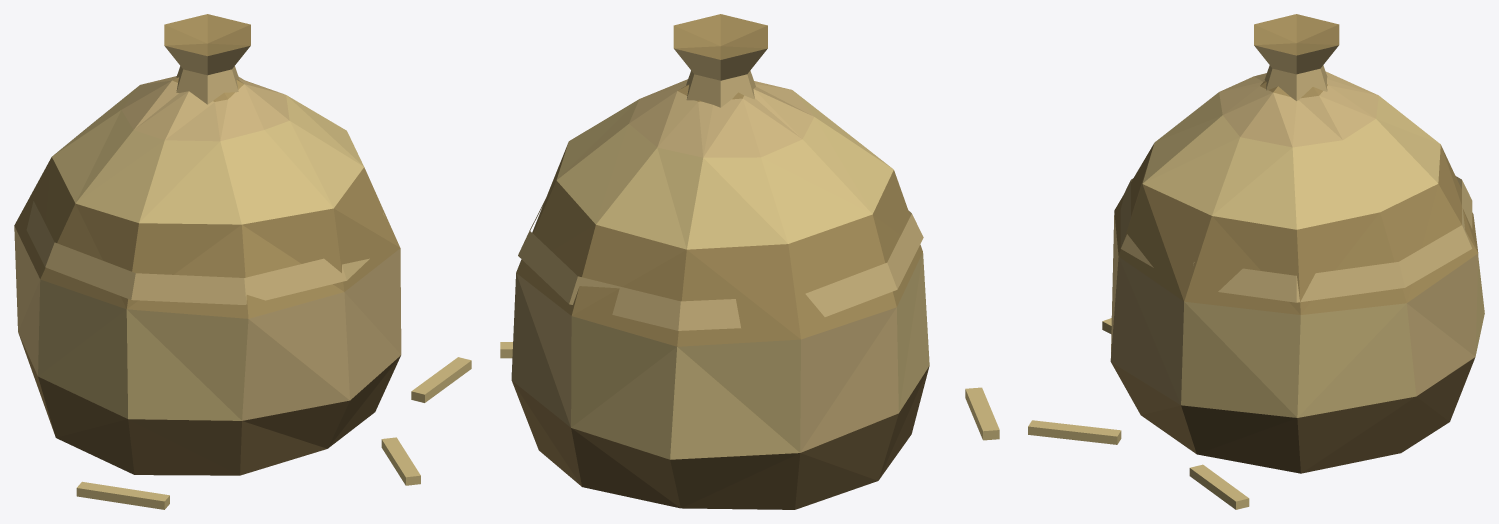
Rendered from hay_bale.fbx.
3 views of the same model, side by side, from view 1: azimuth 30°, elevation 25°; view 2: azimuth 150°, elevation 25°; view 3: azimuth 270°, elevation 25° (orthographic). The views are drawn at different scales.
Visible parts, largest first — view 1: hay_bale; view 2: hay_bale; view 3: hay_bale.
Part boxes in pixels (bbox=[...]): hay_bale: bbox=[14, 14, 471, 509]; hay_bale: bbox=[500, 14, 999, 509]; hay_bale: bbox=[1028, 14, 1484, 509].
Bounding box in the file's own units: 1.58 × 1.31 × 1.48.
